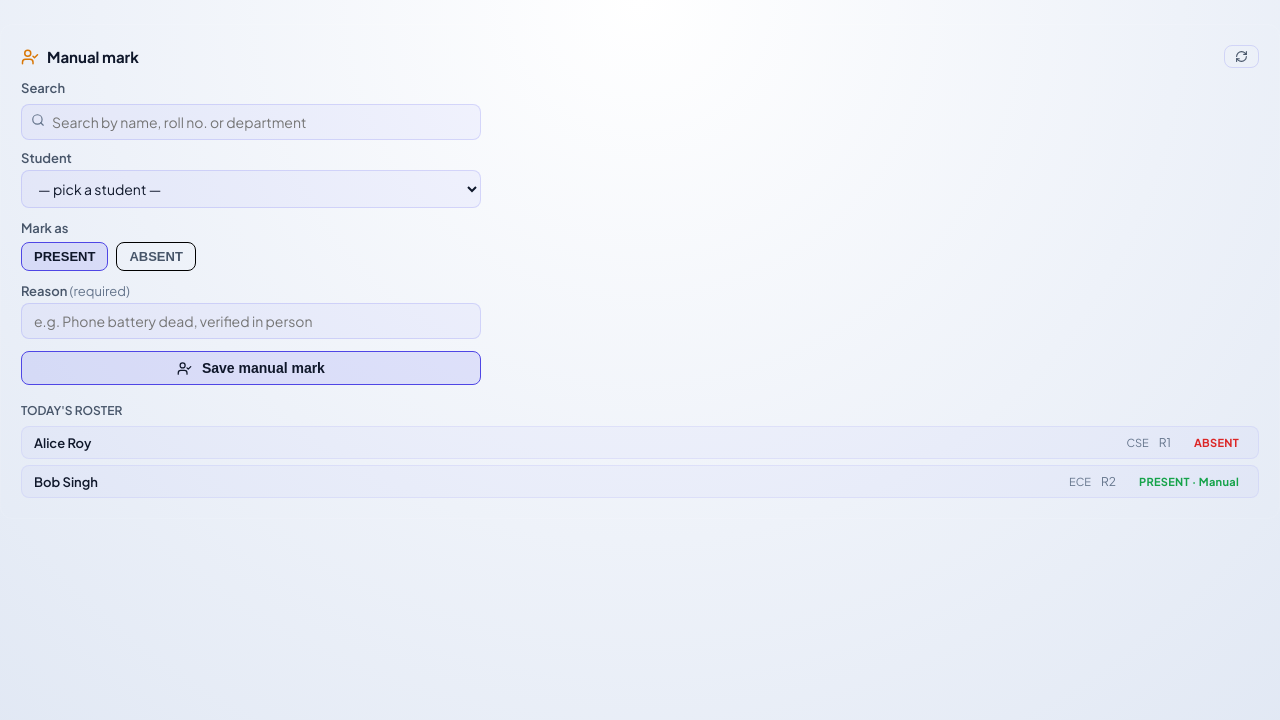
Test: ManualMarkSection › filters the roster list by search text
Expected: the text "Alice Roy" is shown, [34, 434, 91, 450]
Type "bob" into the field with placeholder "Search by name, roll no. or department" at [251, 122], box [21, 104, 481, 140]
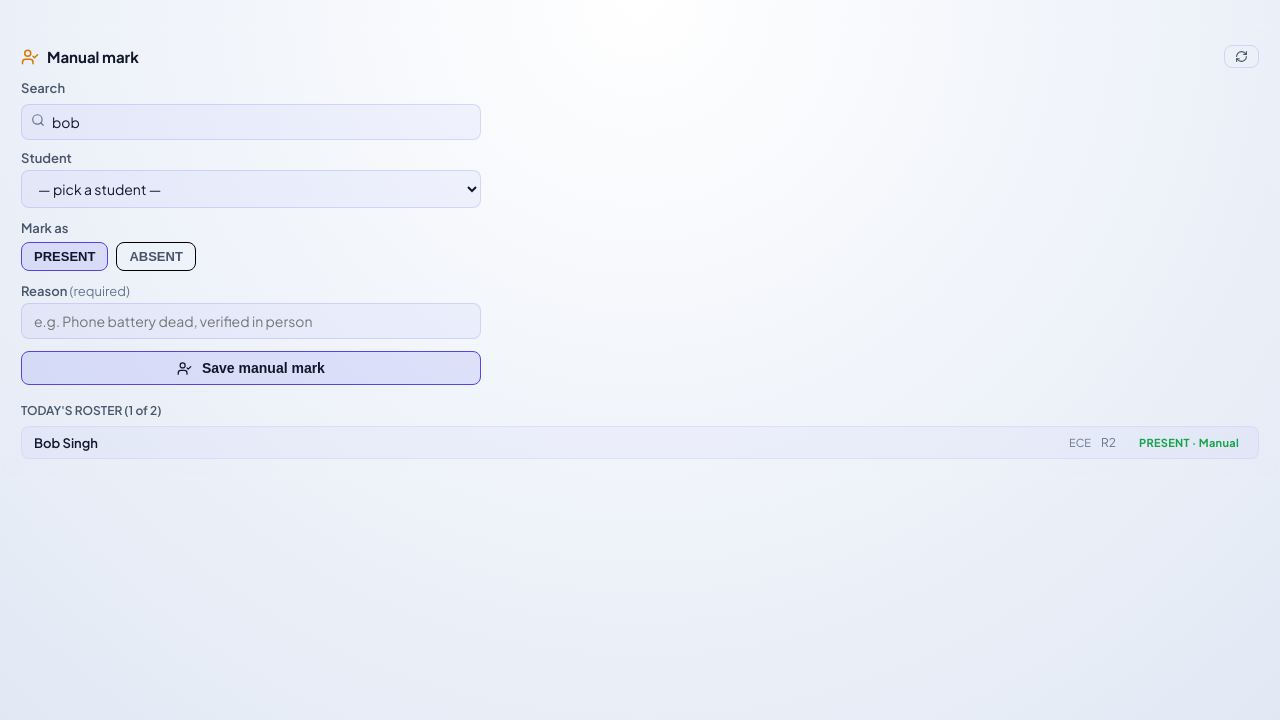
Expected: the text "Bob Singh" is shown, [34, 434, 98, 450]
Result: the text "Alice Roy" is gone
